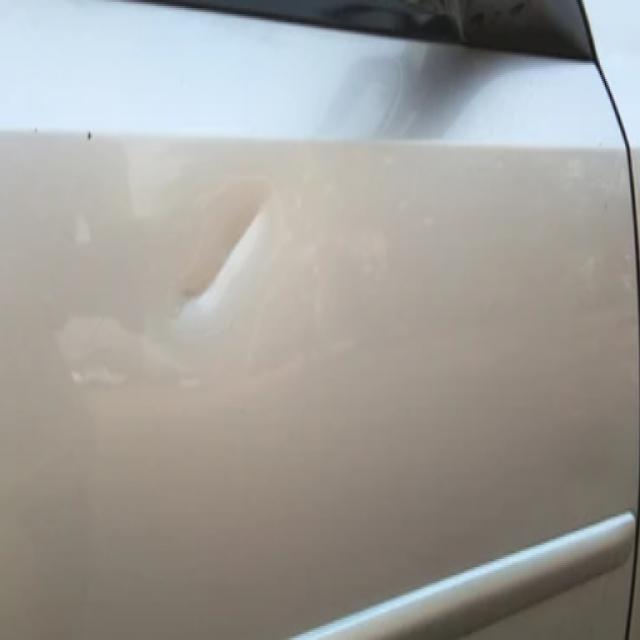dents: (175, 205, 308, 329)
